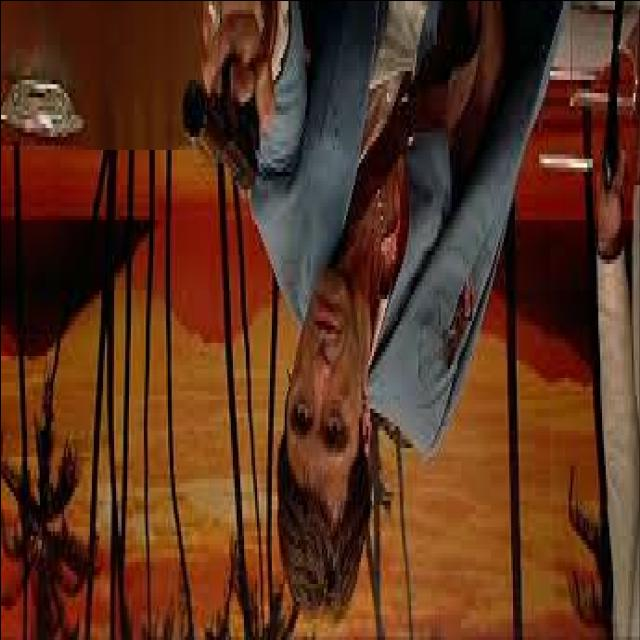weapons: (172, 0, 268, 210)
